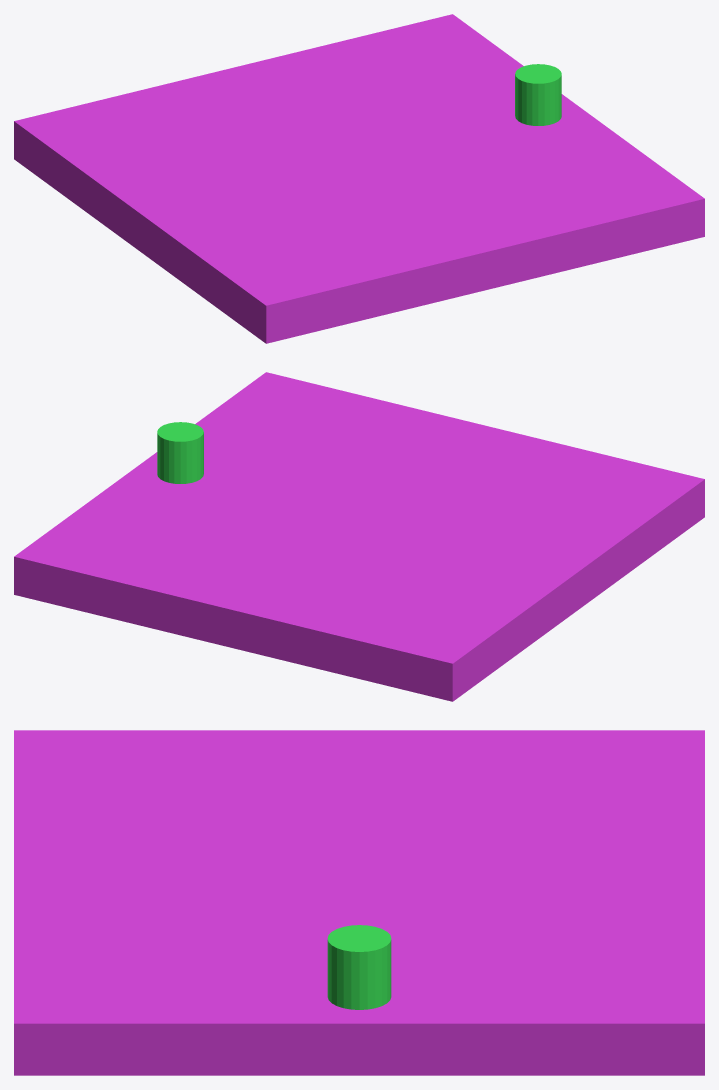
The picture shows the model from 3 angles, top to bottom: view 1: azimuth 30°, elevation 25°; view 2: azimuth 150°, elevation 25°; view 3: azimuth 270°, elevation 25°; orthographic projection. The views are drawn at different scales.
Parts seen in each view (by area): view 1: kleineddddd kast; view 2: kleineddddd kast; view 3: kleineddddd kast.
Boxes of the visible parts, x1,y1,x2,y2 form: kleineddddd kast: [14, 14, 704, 343]; kleineddddd kast: [14, 372, 704, 701]; kleineddddd kast: [14, 730, 704, 1075].
Size of the model in its own units: 0.217 by 0.038 by 0.216.
